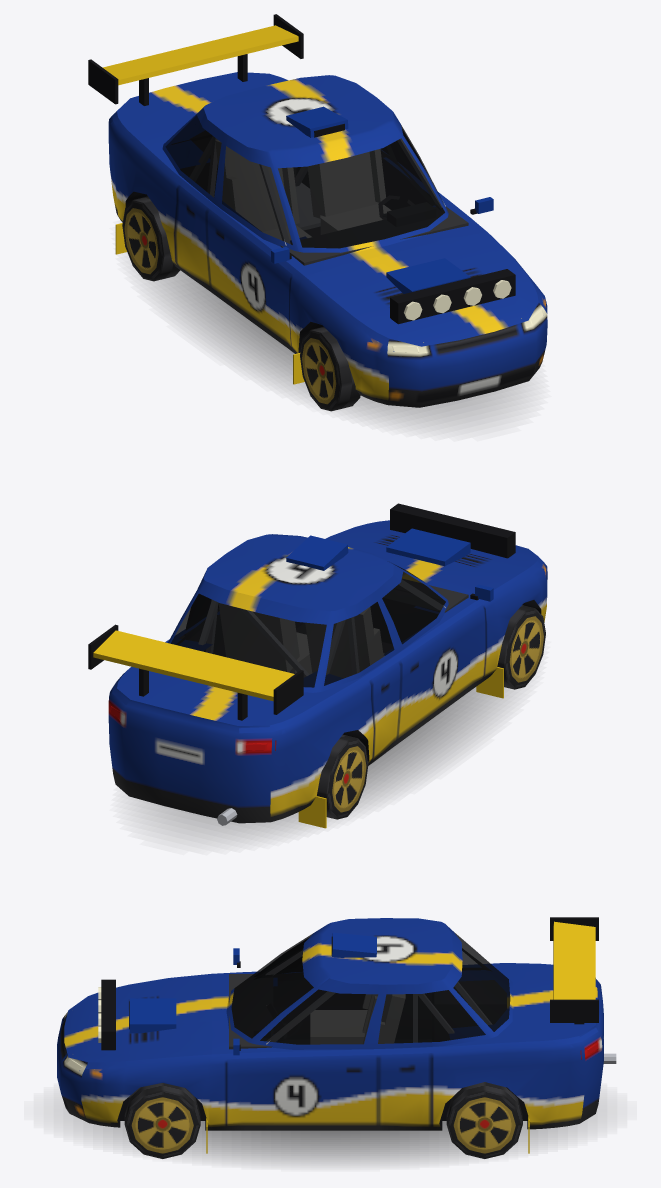
Rendered from trovao.glb.
3 views of the same model, one above another, from view 1: azimuth 30°, elevation 25°; view 2: azimuth 150°, elevation 25°; view 3: azimuth 270°, elevation 25° (orthographic). The views are drawn at different scales.
Visible parts, largest first — view 1: Carroceria, Interior, Capo_malha, Porta_D_malha, Sombra, Tampa_malha, Porta_TD_malha, Roda_DD, Roda_TD, Porta_E_malha; view 2: Carroceria, Interior, Tampa_malha, Porta_D_malha, Capo_malha, Sombra, Porta_TD_malha, Roda_TD, Roda_DD; view 3: Carroceria, Porta_E_malha, Interior, Capo_malha, Sombra, Porta_TE_malha, Tampa_malha, Roda_TE, Roda_DE, Porta_D_malha.
Part boxes in pixels (<box>): Carroceria: <box>88,14,547,407</box>; Interior: <box>172,131,468,265</box>; Capo_malha: <box>310,233,543,346</box>; Porta_D_malha: <box>206,136,298,345</box>; Sombra: <box>148,271,521,426</box>; Tampa_malha: <box>102,25,298,134</box>; Porta_TD_malha: <box>174,113,228,283</box>; Roda_DD: <box>300,327,360,411</box>; Roda_TD: <box>122,196,180,281</box>; Porta_E_malha: <box>391,112,493,214</box>; Carroceria: <box>88,527,547,828</box>; Interior: <box>176,579,468,677</box>; Tampa_malha: <box>93,630,307,733</box>; Porta_D_malha: <box>379,565,493,735</box>; Capo_malha: <box>330,503,543,590</box>; Sombra: <box>138,687,513,839</box>; Porta_TD_malha: <box>344,588,401,758</box>; Roda_TD: <box>317,734,368,819</box>; Roda_DD: <box>497,605,545,689</box>; Carroceria: <box>57,917,616,1153</box>; Porta_E_malha: <box>226,978,378,1124</box>; Interior: <box>128,949,506,1097</box>; Capo_malha: <box>69,976,211,1068</box>; Sombra: <box>63,1102,597,1163</box>; Porta_TE_malha: <box>378,982,431,1124</box>; Tampa_malha: <box>526,921,598,1044</box>; Roda_TE: <box>446,1082,522,1158</box>; Roda_DE: <box>124,1083,200,1158</box>; Porta_D_malha: <box>233,939,306,976</box>.
Size of the model in its own units: 2.42 by 1.55 by 5.15.
14 materials, 5 textured.
